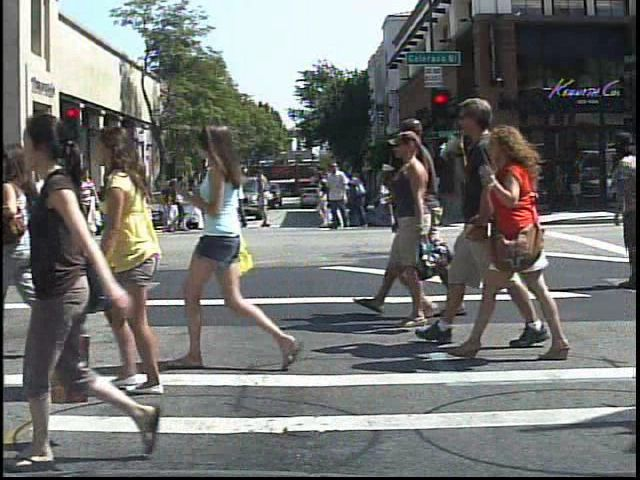person: (16, 103, 165, 472), (183, 111, 309, 380), (419, 84, 527, 351), (93, 117, 195, 397), (478, 120, 581, 363), (0, 133, 19, 364), (115, 161, 148, 242), (70, 163, 100, 242), (462, 159, 493, 231), (27, 168, 54, 243), (4, 176, 22, 241), (96, 180, 116, 223)
